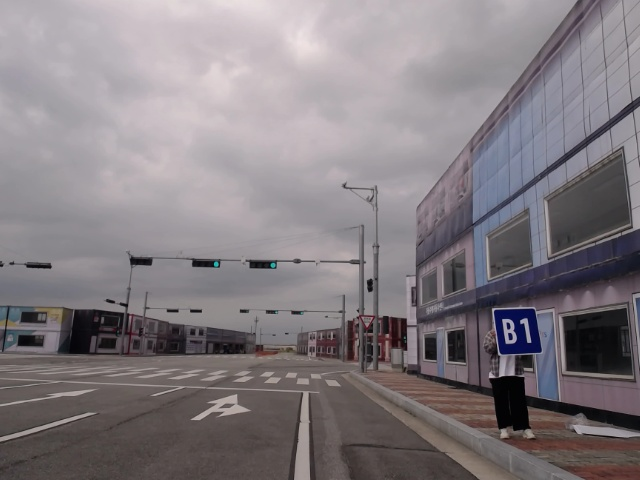delivery_b1: (493, 308, 543, 355)
straight_green_4: (192, 260, 220, 268), (250, 261, 277, 269), (291, 311, 304, 315), (266, 310, 278, 314)
